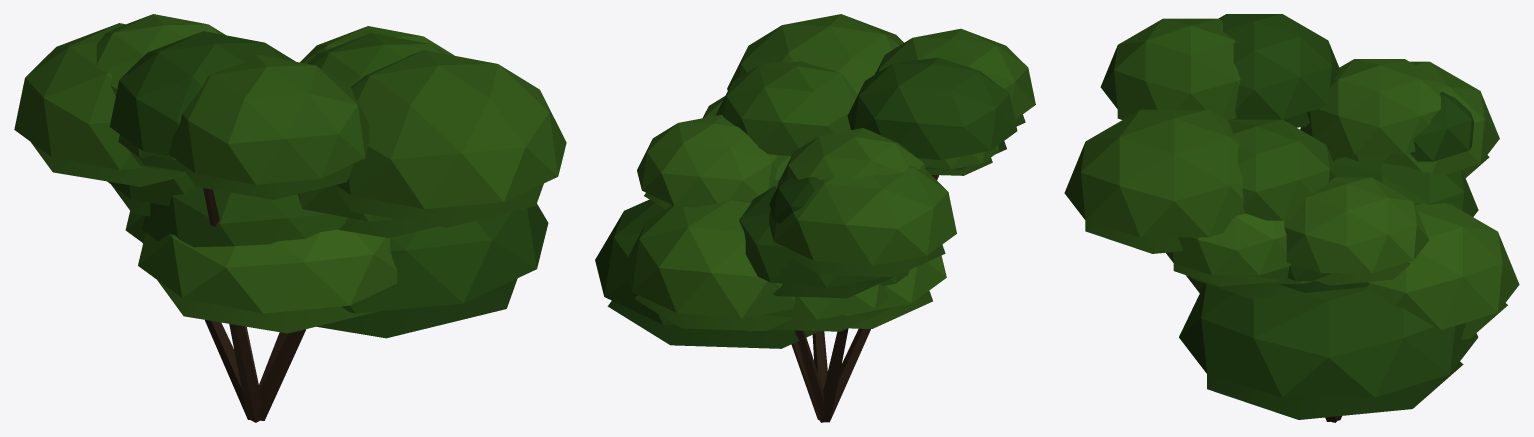
Rendered from ground_shrub_3.glb.
The picture shows the model from 3 angles, left to right: view 1: azimuth 30°, elevation 25°; view 2: azimuth 150°, elevation 25°; view 3: azimuth 270°, elevation 25°; orthographic projection. The views are drawn at different scales.
Visible parts, largest first — view 1: leaf, wood; view 2: leaf, wood; view 3: leaf.
Boxes of the visible parts, x1,y1,x2,y2 form: leaf: [14, 14, 566, 338]; wood: [203, 188, 305, 422]; leaf: [595, 14, 1035, 348]; wood: [791, 175, 939, 422]; leaf: [1064, 14, 1519, 419].
Bounding box in the file's own units: 1.88 × 1.74 × 1.97.
